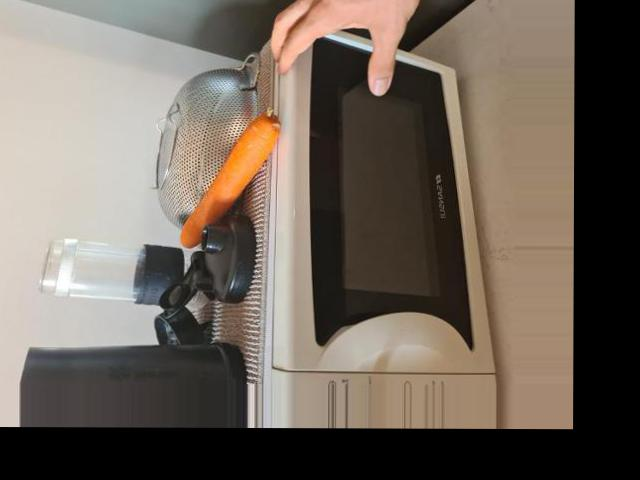carrot: (179, 114, 282, 248)
